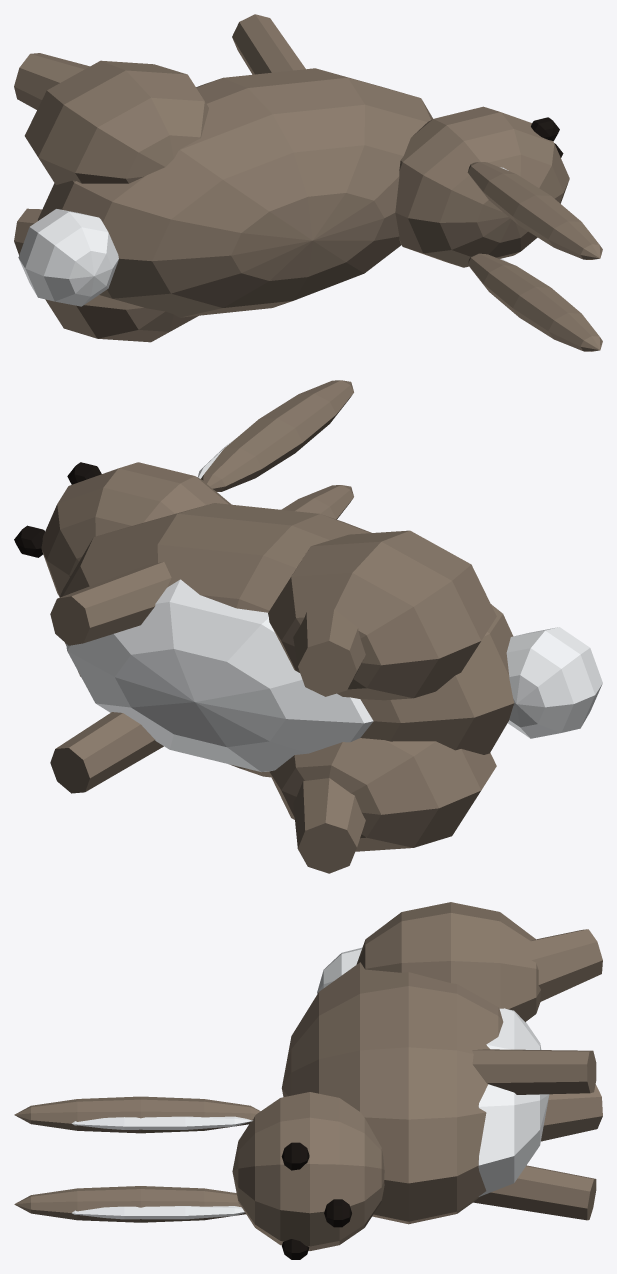
Rendered from snow_rabbit.obj.
3 views of the same model, one above another, from view 1: azimuth 30°, elevation 25°; view 2: azimuth 150°, elevation 25°; view 3: azimuth 270°, elevation 25° (orthographic). The views are drawn at different scales.
Parts seen in each view (by area): view 1: body, head, haunch_l, tail, ear_l, ear_r, haunch_r, leg_fl, leg_hl, leg_hr, eye_l; view 2: belly, body, haunch_l, haunch_r, head, tail, ear_l, leg_fl, leg_hr, leg_fr, leg_hl, ear_r (+1 smaller); view 3: body, head, haunch_l, belly, ear_l, leg_fl, ear_r, leg_fr, leg_hl, leg_hr, ear_in_r, ear_in_l (+3 smaller).
Boxes of the visible parts, x1,y1,x2,y2 form: body: (38, 68, 432, 317); head: (395, 106, 569, 267); haunch_l: (24, 60, 208, 184); tail: (18, 209, 118, 306); ear_l: (467, 162, 602, 259); ear_r: (468, 253, 602, 351); haunch_r: (45, 295, 198, 342); leg_fl: (232, 14, 305, 74); leg_hl: (14, 53, 89, 109); leg_hr: (14, 208, 42, 255); eye_l: (531, 117, 559, 141); belly: (66, 579, 373, 772); body: (59, 503, 514, 777); haunch_l: (268, 530, 496, 700); haunch_r: (269, 738, 496, 851); head: (41, 462, 231, 596); tail: (506, 627, 602, 738); ear_l: (201, 380, 353, 491); leg_fl: (50, 561, 171, 645); leg_hr: (293, 778, 365, 873); leg_fr: (50, 712, 163, 793); leg_hl: (293, 609, 365, 696); ear_r: (281, 485, 353, 519); body: (281, 962, 503, 1224); head: (232, 1092, 384, 1250); haunch_l: (356, 902, 540, 1022); belly: (478, 1008, 549, 1196); ear_l: (14, 1096, 260, 1133); leg_fl: (472, 1049, 596, 1094); ear_r: (14, 1186, 245, 1222); leg_fr: (473, 1165, 596, 1220); leg_hl: (530, 929, 602, 1001); leg_hr: (541, 1084, 602, 1141); ear_in_r: (72, 1206, 244, 1219); ear_in_l: (71, 1116, 252, 1129).
Size of the model in its own units: 0.4164 by 0.2 by 0.4179.
